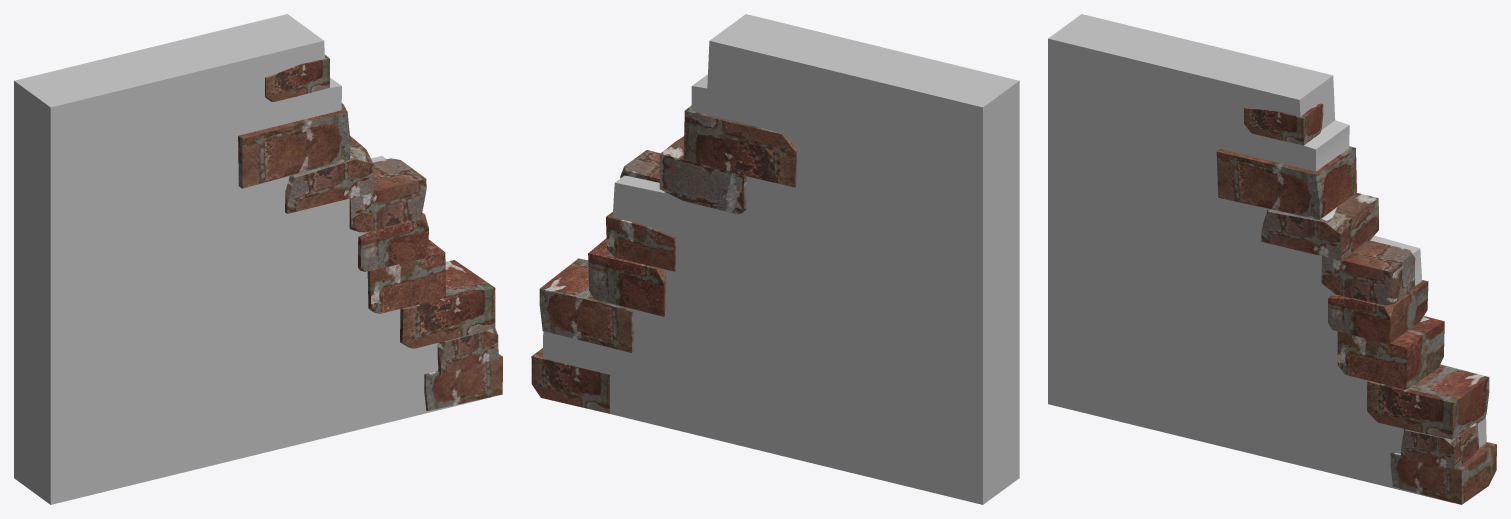
File: SM_Wall_Ruined_25.fbx
The picture shows the model from 3 angles, left to right: view 1: azimuth 30°, elevation 25°; view 2: azimuth 150°, elevation 25°; view 3: azimuth 330°, elevation 25°; orthographic projection. The views are drawn at different scales.
Visible parts, largest first — view 1: SM_Wall_Ruined_25_LOD0; view 2: SM_Wall_Ruined_25_LOD0; view 3: SM_Wall_Ruined_25_LOD0.
Boxes of the visible parts, box(x1,y1,x2,y2) form: SM_Wall_Ruined_25_LOD0: box(14, 14, 502, 504); SM_Wall_Ruined_25_LOD0: box(531, 14, 1019, 504); SM_Wall_Ruined_25_LOD0: box(1048, 14, 1496, 504).
Size of what is drawn, in the model's own units: 356 by 300 by 60.04.
